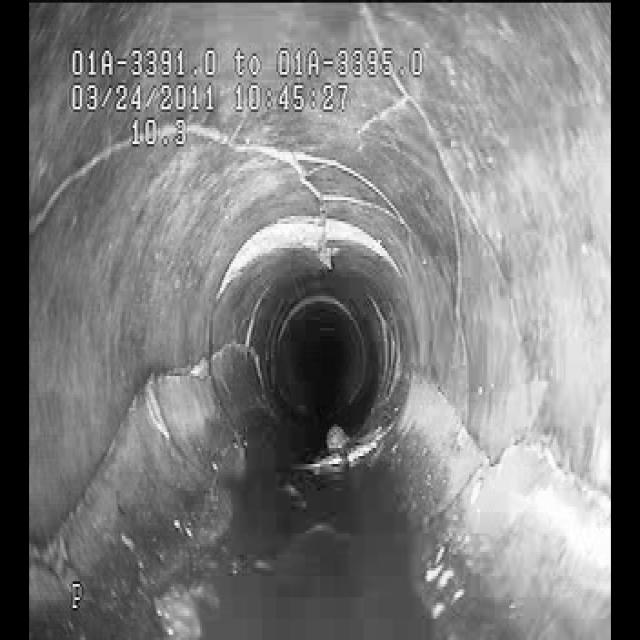Fracture: (35, 305, 224, 568), (220, 118, 356, 218), (396, 86, 481, 228)
